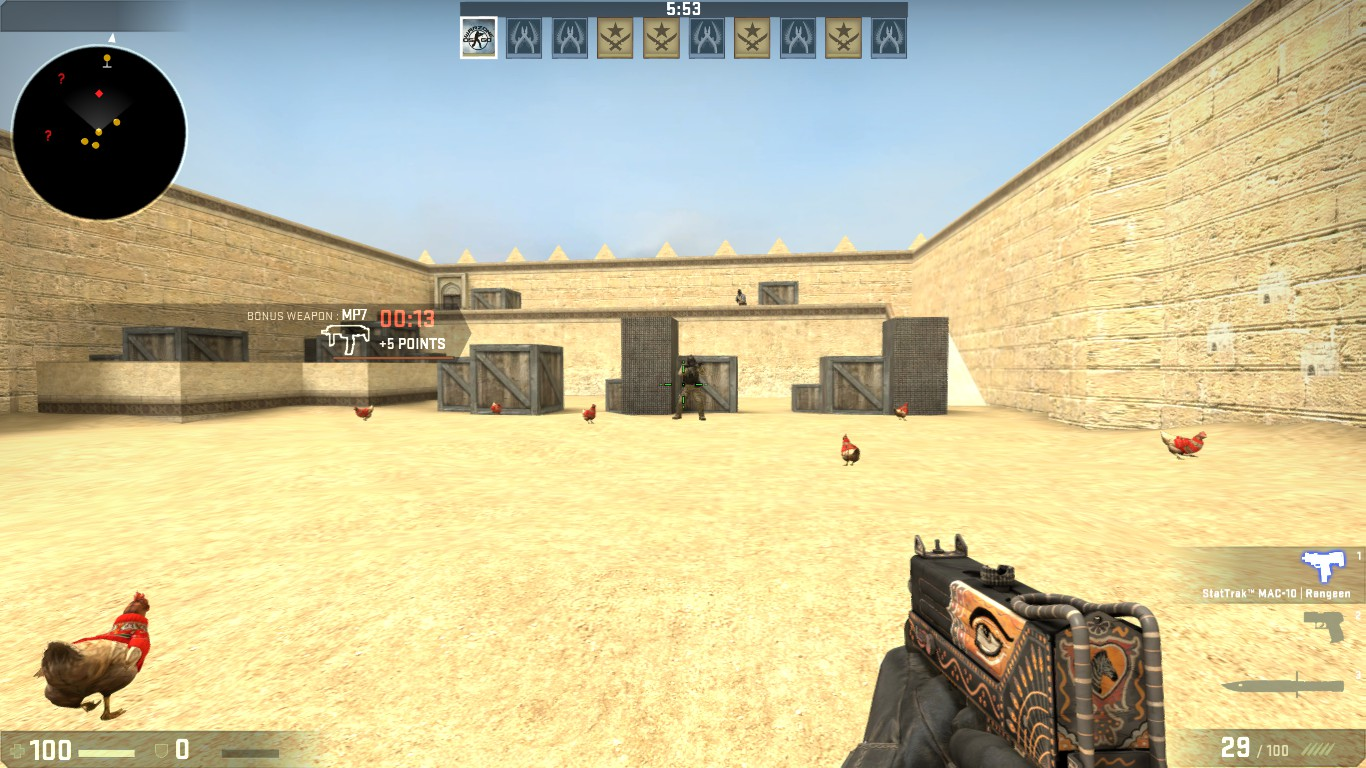c: (669, 354, 709, 423)
ch: (685, 354, 699, 368)
t: (734, 289, 749, 308)
